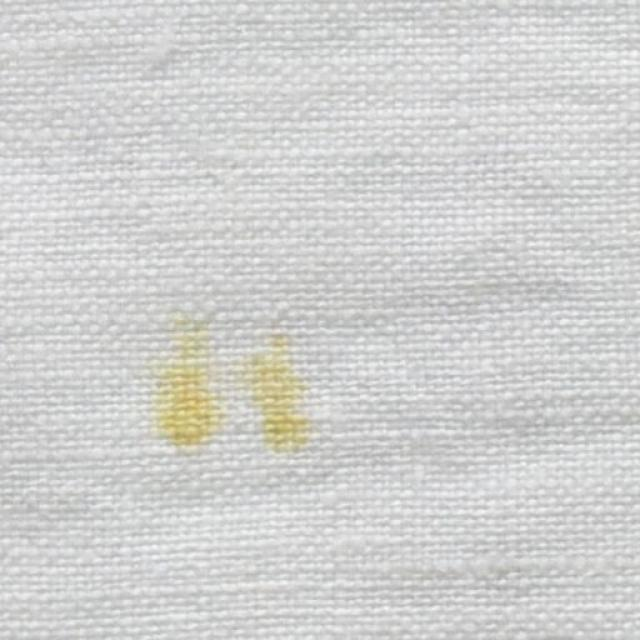Stain: (159, 359, 218, 450), (246, 361, 308, 445)
